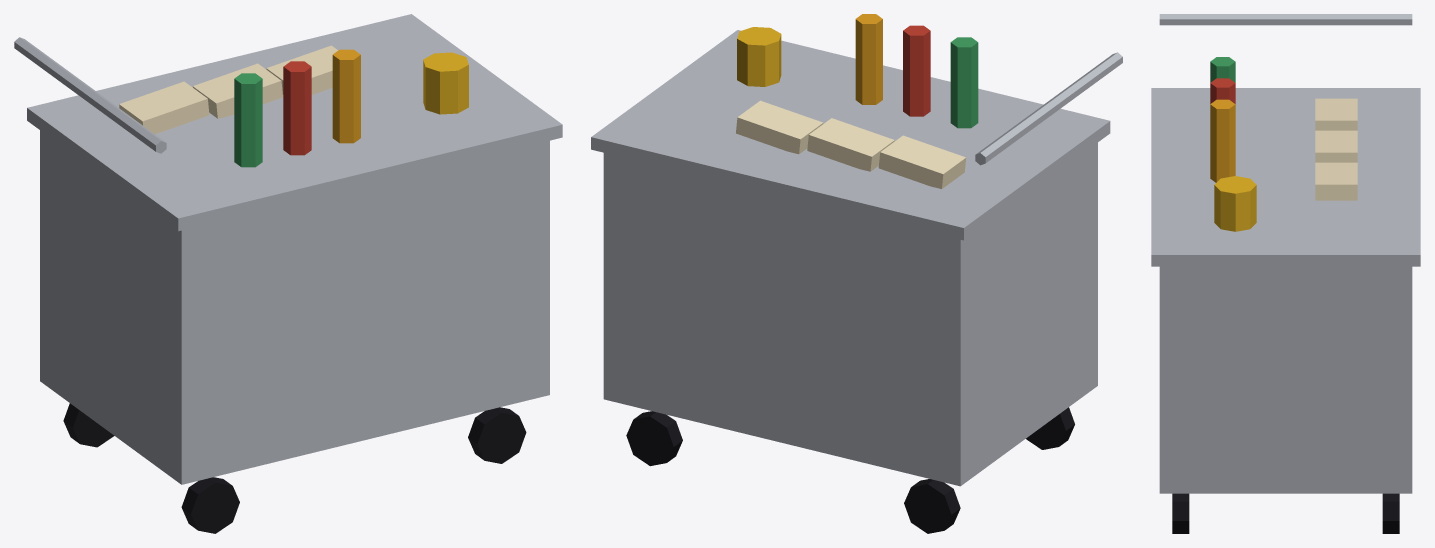
File: train_cart.glb
3 renders of one model, left to right at view 1: azimuth 30°, elevation 25°; view 2: azimuth 150°, elevation 25°; view 3: azimuth 270°, elevation 25°, orthographic. The views are drawn at different scales.
Parts seen in each view (by area): view 1: body_cart_steel, food, food_bread_white (×3), wheels_black, food_mustard; view 2: body_cart_steel, food_bread_white (×3), food, wheels_black, food_mustard; view 3: body_cart_steel, food_bread_white (×3), food, food_mustard, wheels_black.
Boxes of the visible parts, x1,y1,x2,y2 form: body_cart_steel: (14,14,562,484); food: (234,49,360,167); food_bread_white (×3): (119,45,337,133); wheels_black: (63,403,526,533); food_mustard: (423,52,468,114); body_cart_steel: (591,30,1122,486); food_bread_white (×3): (736,100,966,188); food: (855,14,978,128); wheels_black: (626,407,1074,533); food_mustard: (737,27,781,86); body_cart_steel: (1151,14,1420,493); food_bread_white (×3): (1315,98,1357,200); food: (1210,57,1235,182); food_mustard: (1214,176,1256,231); wheels_black: (1172,493,1399,533).
Bounding box in the file's own units: 0.983 × 0.98 × 0.64.
